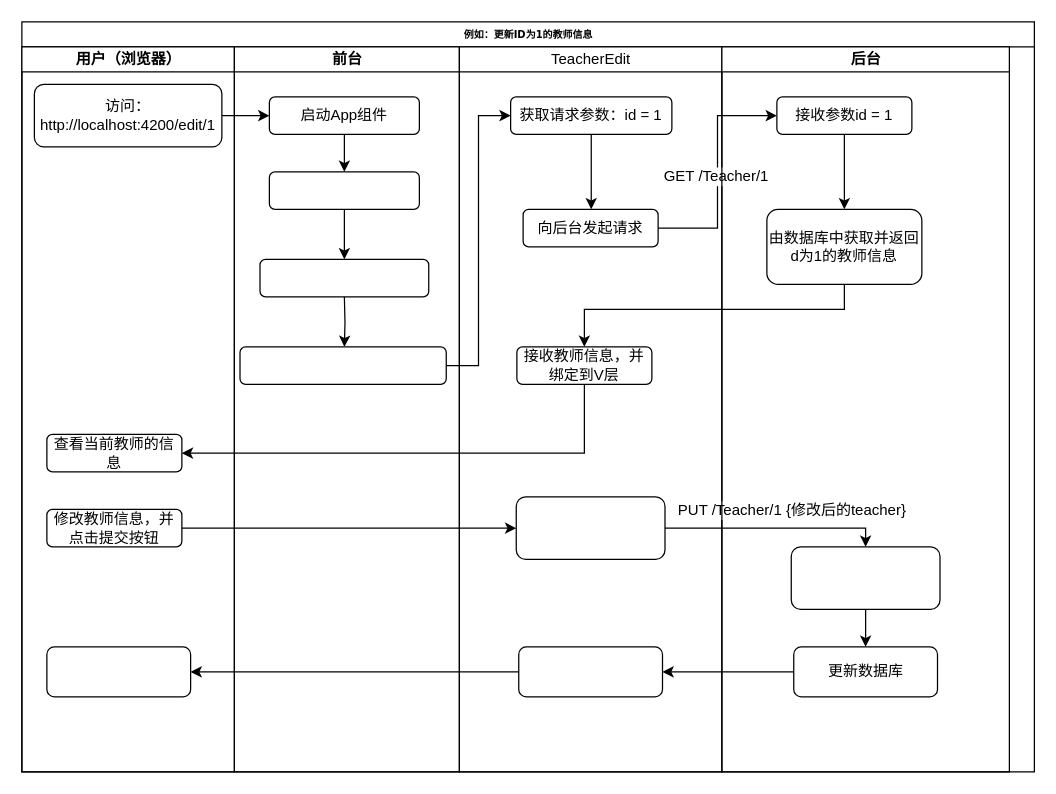
This 1056x794 diagram has some shape labels left out. The centre of each missing label's shape, as x and y in pixels:
加载匹配的组件TeacherEditComponent: [342,365]
加载路由: [343,190]
提示更新成功 重新获取教师列表: [590,671]
查看列新后的教师列表: [118,671]
根据请求地址匹配路由: [344,277]
获取参数id = 1 获取修改后的teacher: [865,577]
触发提交方法，获取修改后的教师信息并发送给后台: [590,527]
